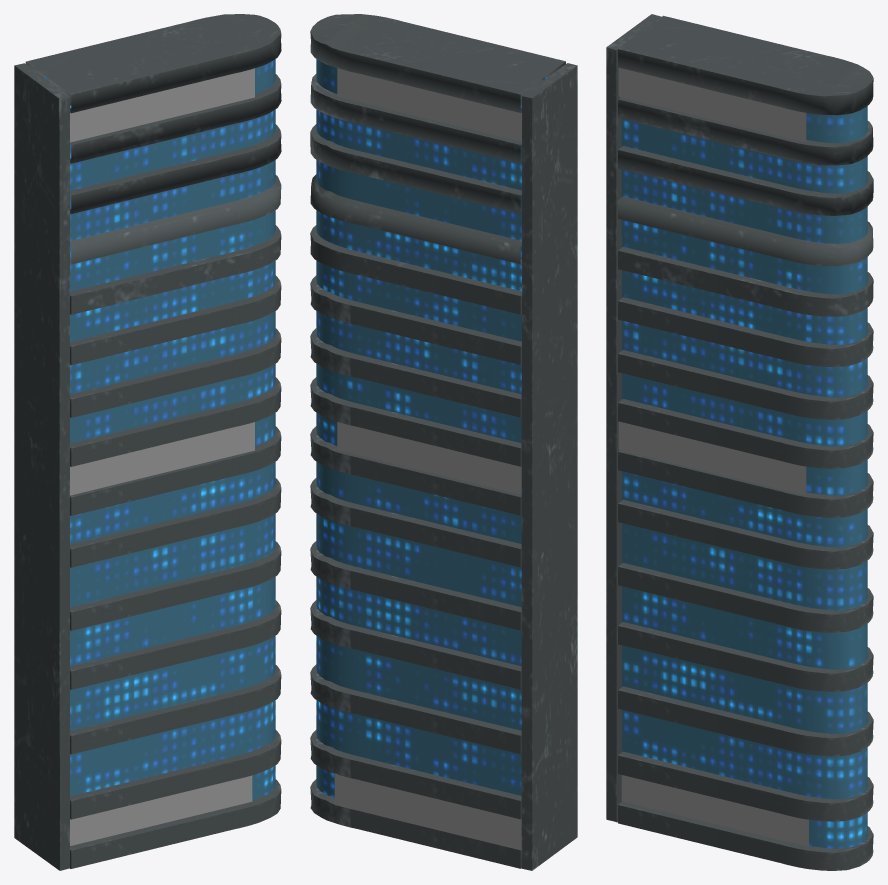
The model's file is BLD1310021.fbx.
3 renders of one model, left to right at view 1: azimuth 30°, elevation 25°; view 2: azimuth 150°, elevation 25°; view 3: azimuth 330°, elevation 25°, orthographic.
Visible parts, largest first — view 1: smBLD1310021; view 2: smBLD1310021; view 3: smBLD1310021.
Part boxes in pixels (bbox=[...]): smBLD1310021: bbox=[14, 14, 281, 870]; smBLD1310021: bbox=[310, 14, 577, 870]; smBLD1310021: bbox=[606, 14, 873, 870].
Size of the model in its own units: 1624 by 5064 by 548.
2 materials, 1 textured.
